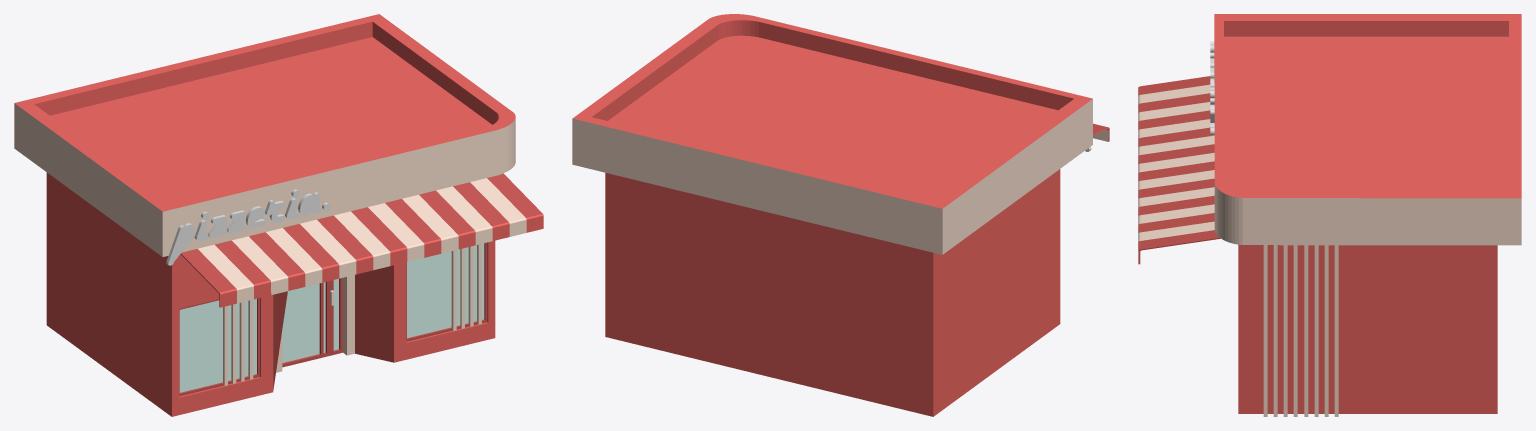
Rendered from pizzeria1.fbx.
3 views of the same model, side by side, from view 1: azimuth 30°, elevation 25°; view 2: azimuth 150°, elevation 25°; view 3: azimuth 270°, elevation 25° (orthographic). The views are drawn at different scales.
Parts seen in each view (by area): view 1: pizzeria; view 2: pizzeria; view 3: pizzeria.
Part boxes in pixels (x1,y1,x2,y2): pizzeria: (14,14,543,416); pizzeria: (572,14,1109,416); pizzeria: (1138,14,1521,416).
Size of the model in its own units: 671 by 385 by 590.
